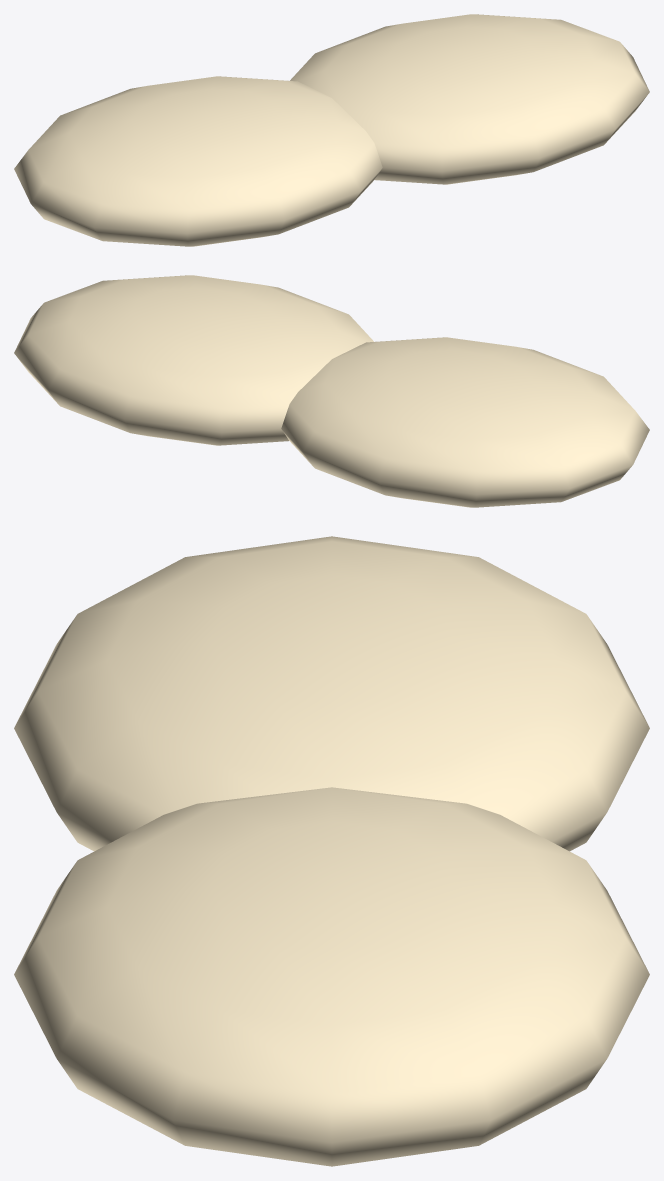
The model's file is butterfly.glb.
3 renders of one model, top to bottom at view 1: azimuth 30°, elevation 25°; view 2: azimuth 150°, elevation 25°; view 3: azimuth 270°, elevation 25°, orthographic. The views are drawn at different scales.
Visible parts, largest first — view 1: wingL, wingR; view 2: wingL, wingR; view 3: wingR, wingL.
Boxes of the visible parts, bbox=[...] form: wingL: bbox=[14, 76, 382, 246]; wingR: bbox=[290, 14, 649, 184]; wingL: bbox=[281, 337, 649, 507]; wingR: bbox=[14, 275, 373, 445]; wingR: bbox=[14, 787, 649, 1166]; wingL: bbox=[14, 536, 649, 851].
Bounding box in the file's own units: 0.26 × 0.04 × 0.12.
